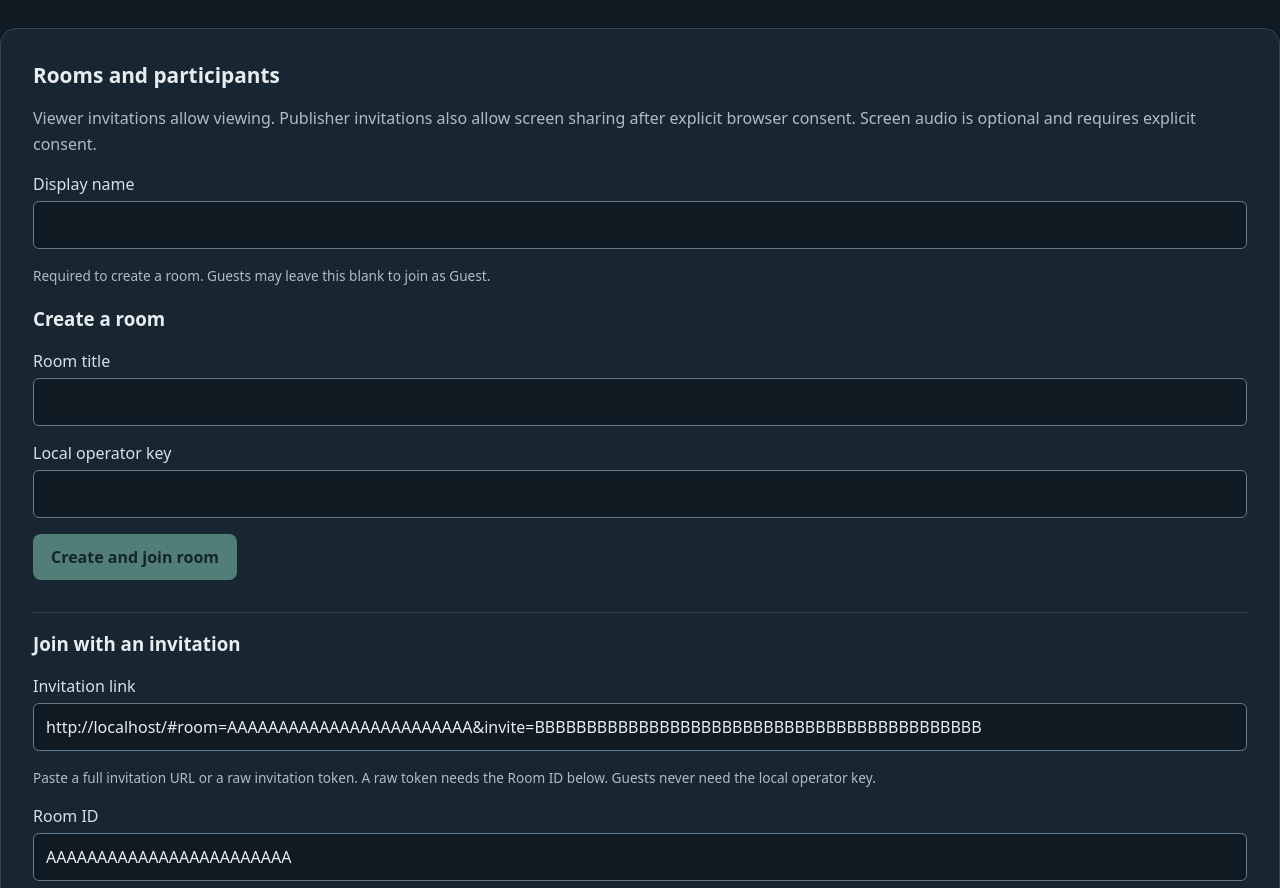
Test case: loads invitation fragment and reports authorization errors
In the field labelled "Display name": (640, 225) [33,201,1247,249], type "Guest"
(page scrolled)
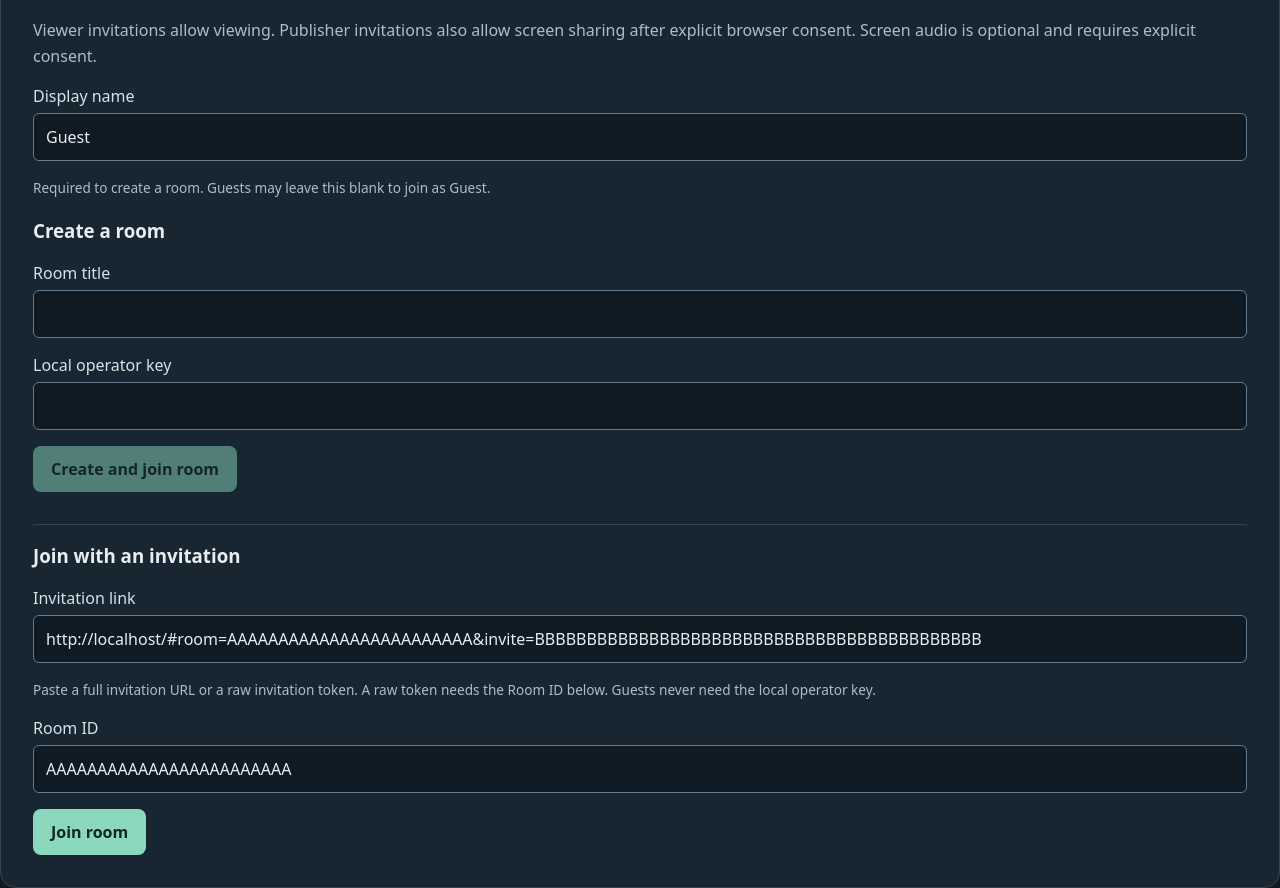
Click the button "Join room": (90, 832) [33,809,146,855]
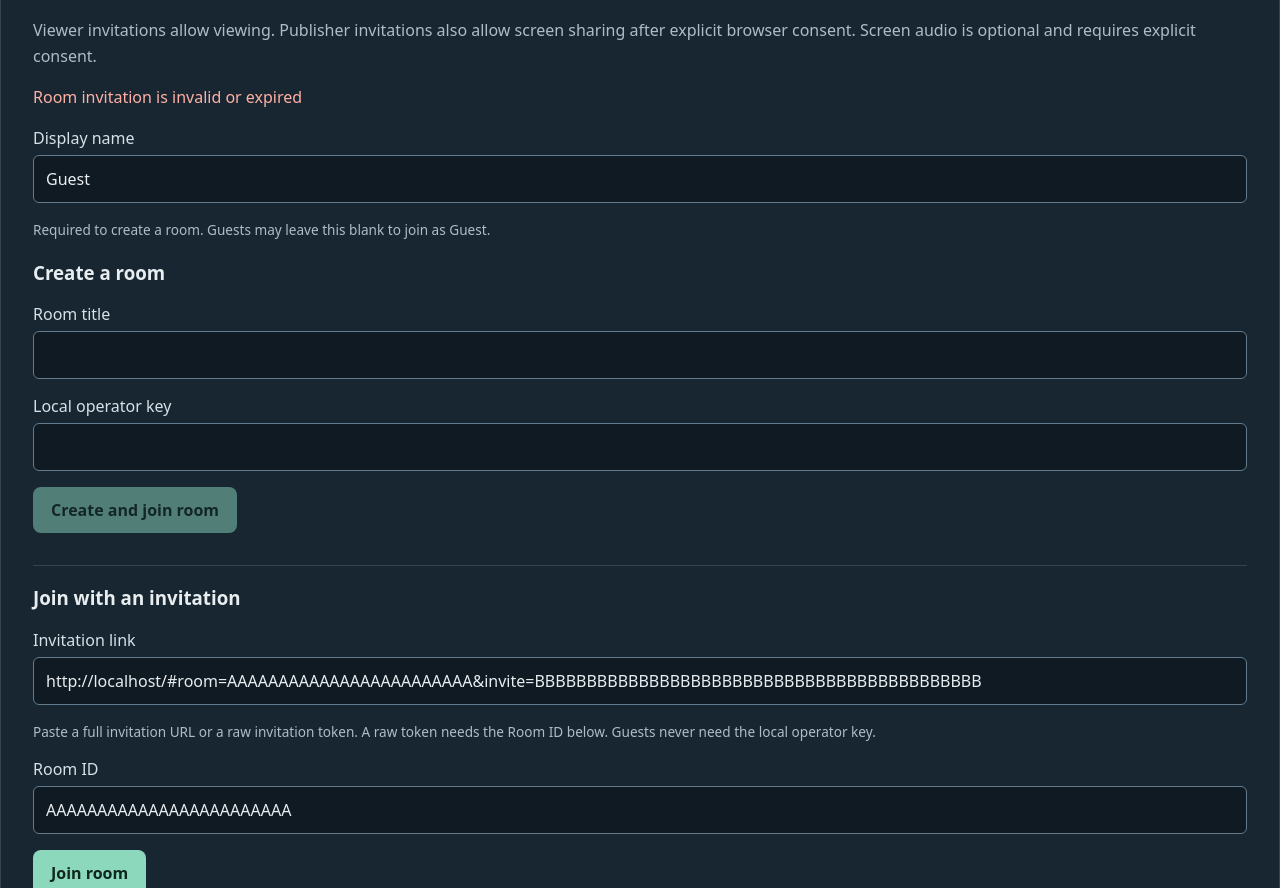
Expected: the message shows "invalid or expired", [33,86,302,108]
